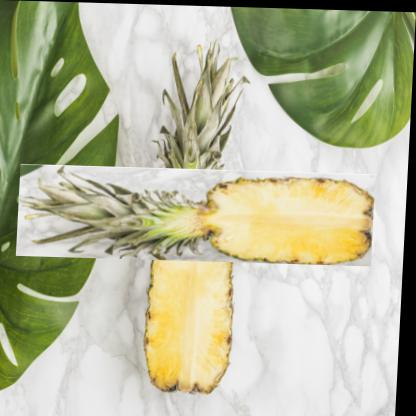pineapple: (82, 100, 316, 330)
